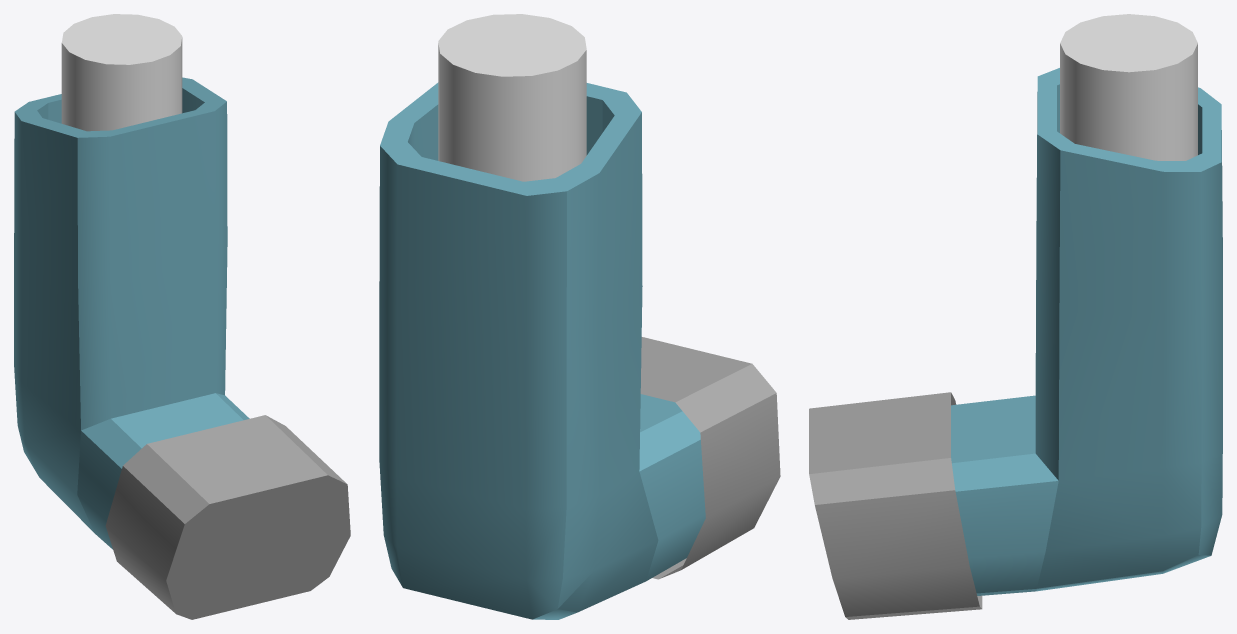
File: roomInhaler.fbx
3 renders of one model, left to right at view 1: azimuth 30°, elevation 25°; view 2: azimuth 150°, elevation 25°; view 3: azimuth 270°, elevation 25°, orthographic. The views are drawn at different scales.
Parts seen in each view (by area): view 1: inhaler2_pCube1, pCube3, inhaler2_pCylinder1; view 2: inhaler2_pCube1, inhaler2_pCylinder1, pCube3; view 3: inhaler2_pCube1, pCube3, inhaler2_pCylinder1.
Boxes of the visible parts, x1,y1,x2,y2 form: inhaler2_pCube1: (14, 77, 249, 549); pCube3: (105, 415, 350, 619); inhaler2_pCylinder1: (61, 14, 182, 131); inhaler2_pCube1: (379, 82, 705, 619); inhaler2_pCylinder1: (438, 14, 586, 181); pCube3: (640, 337, 780, 579); inhaler2_pCube1: (951, 68, 1222, 595); pCube3: (809, 392, 982, 619); inhaler2_pCylinder1: (1060, 14, 1197, 160).
Size of the model in its own units: 4.61 by 11.39 by 7.89.
